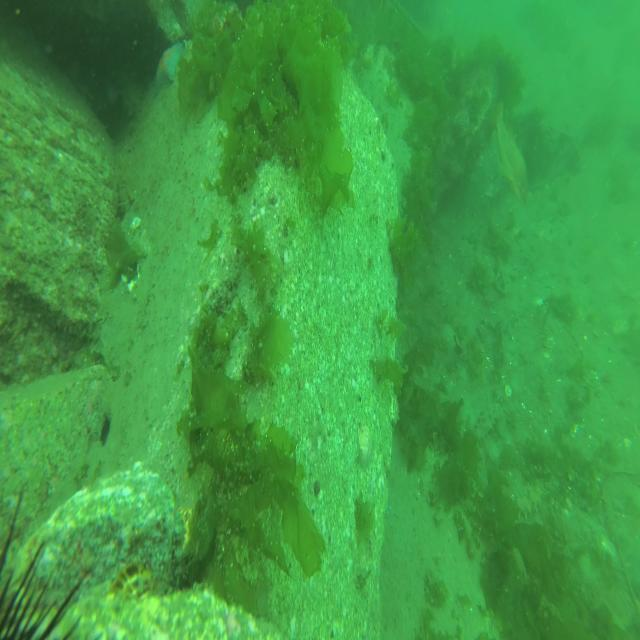echinus: (2, 500, 90, 638)
holothurian: (511, 482, 547, 524), (474, 399, 498, 442)
starfish: (151, 39, 186, 90)
